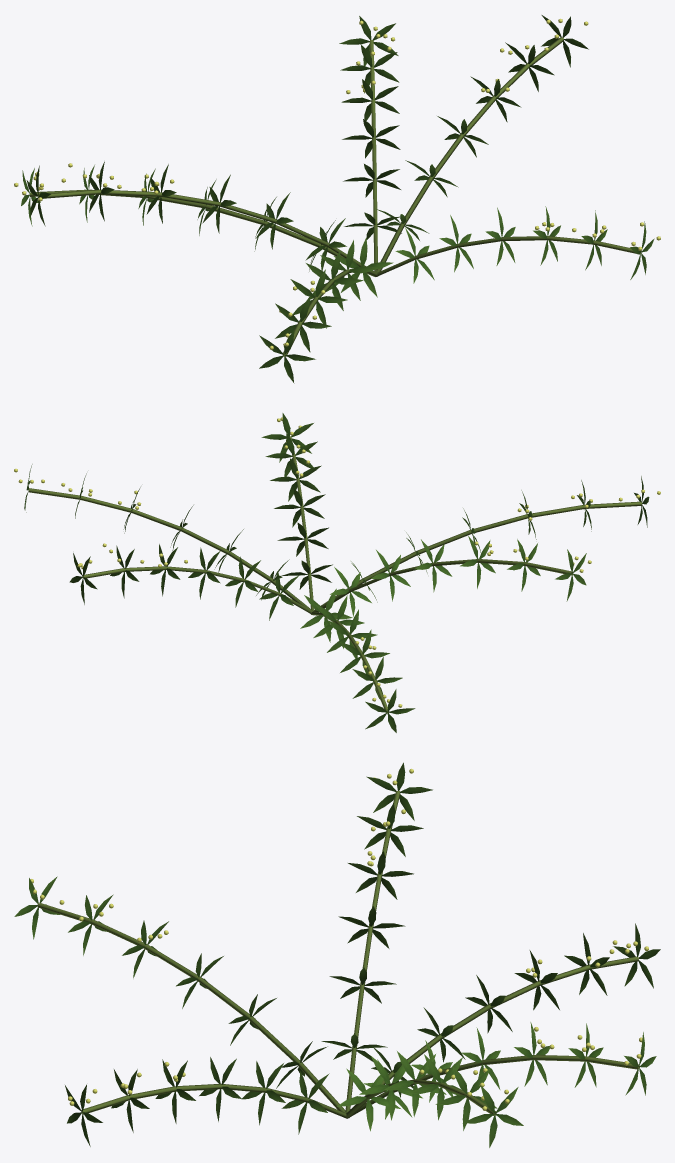
The model's file is madder.glb.
3 views of the same model, one above another, from view 1: azimuth 30°, elevation 25°; view 2: azimuth 150°, elevation 25°; view 3: azimuth 270°, elevation 25° (orthographic). The views are drawn at different scales.
Visible parts, largest first — view 1: madder; view 2: madder; view 3: madder.
Boxes of the visible parts, x1=… form: madder: x1=14, y1=15, x2=660, y2=383; madder: x1=14, y1=413, x2=660, y2=732; madder: x1=14, y1=762, x2=660, y2=1147.
Size of the model in its own units: 0.9805 by 0.2666 by 0.8165.
Materials: 1 (1 with a texture image).
